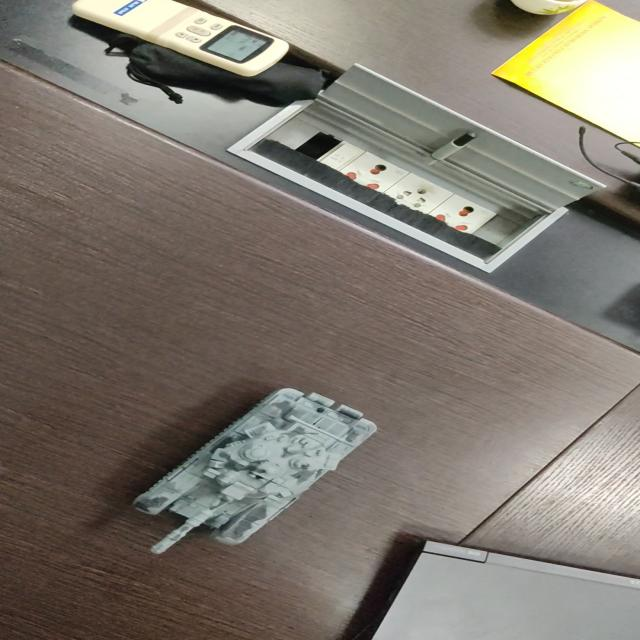tank: (132, 390, 376, 556)
